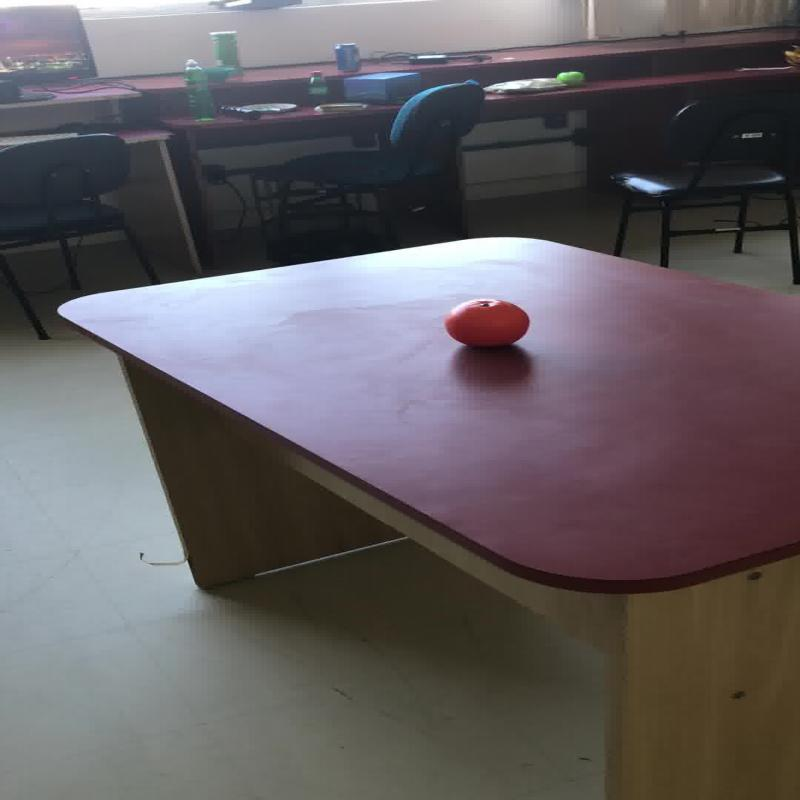orange: (443, 298, 530, 347), (555, 70, 584, 86)
